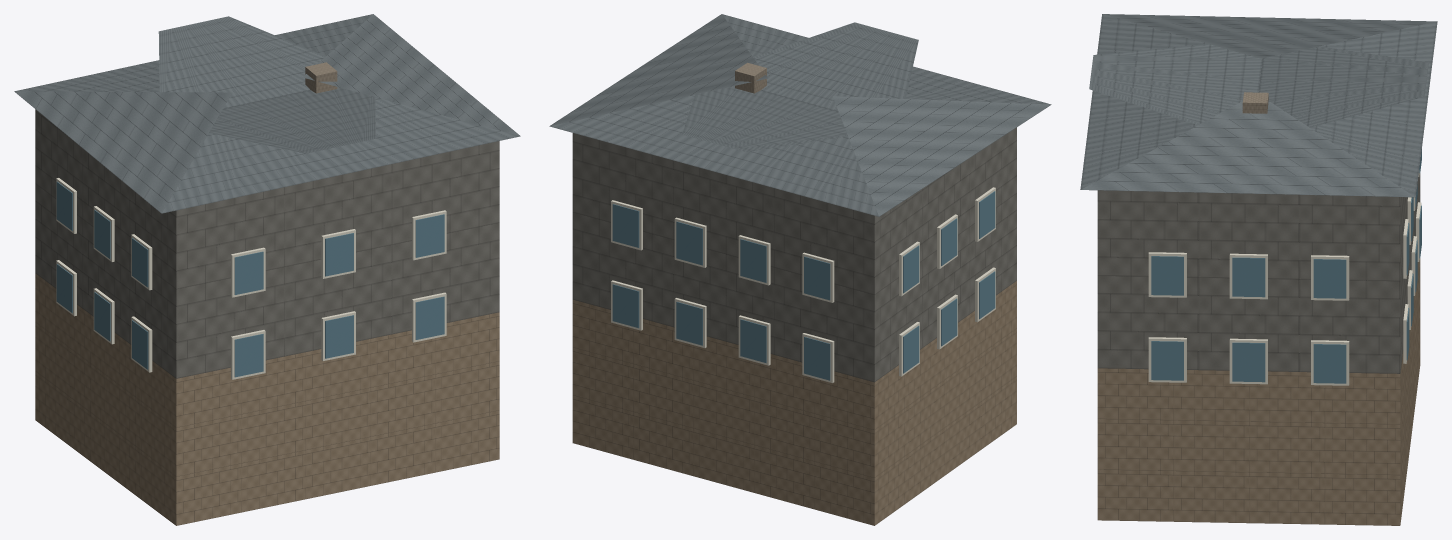
File: core_0063.gltf
3 renders of one model, left to right at view 1: azimuth 30°, elevation 25°; view 2: azimuth 150°, elevation 25°; view 3: azimuth 270°, elevation 25°, orthographic. The views are drawn at different scales.
Visible parts, largest first — view 1: core_0063; view 2: core_0063; view 3: core_0063.
Part boxes in pixels (x1,y1,x2,y2): core_0063: (14,14,520,525); core_0063: (549,14,1051,525); core_0063: (1080,14,1437,525).
Size of the model in its own units: 13.19 by 12.45 by 10.85.
Materials: 6 (6 with a texture image).
